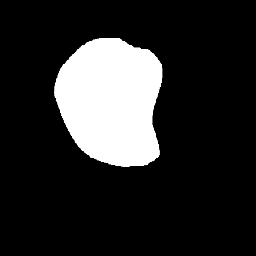mass: (57, 48, 163, 161)
